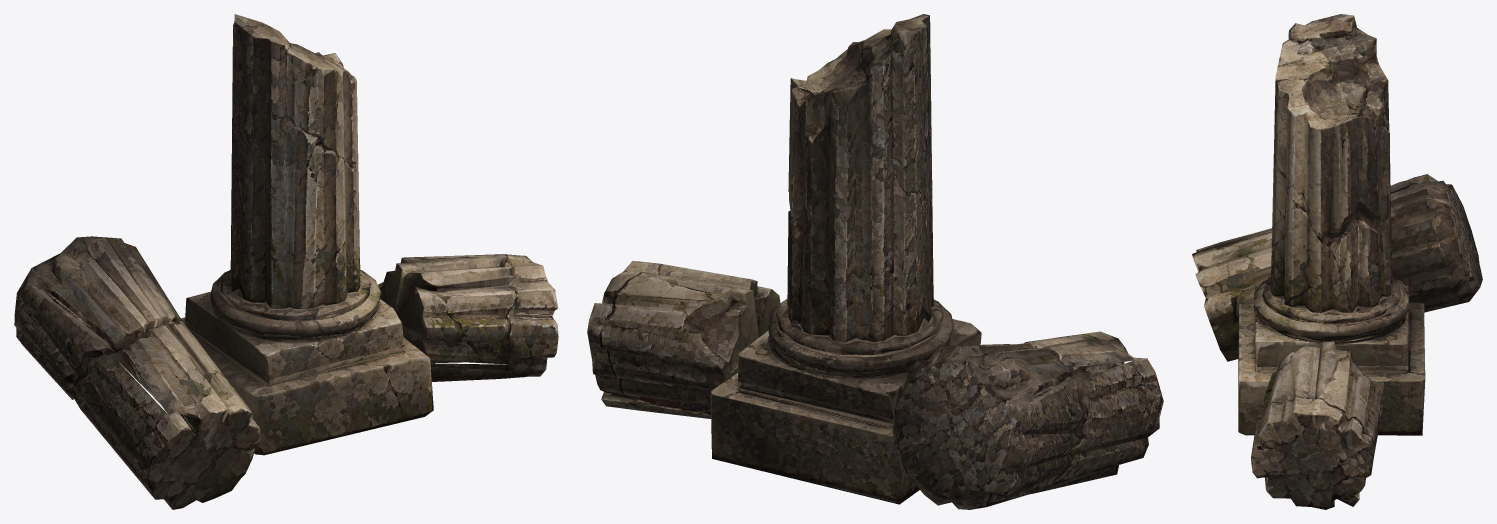
The model's file is dungeon_broken_column.glb.
3 views of the same model, side by side, from view 1: azimuth 30°, elevation 25°; view 2: azimuth 150°, elevation 25°; view 3: azimuth 270°, elevation 25° (orthographic). The views are drawn at different scales.
Parts seen in each view (by area): view 1: broken_column; view 2: broken_column; view 3: broken_column.
Boxes of the visible parts, <box> form: broken_column: <box>14,14,558,509</box>; broken_column: <box>587,14,1163,509</box>; broken_column: <box>1192,14,1482,509</box>.
Bounding box in the file's own units: 0.9995 × 0.8916 × 0.6089.
Materials: 1 (1 with a texture image).
